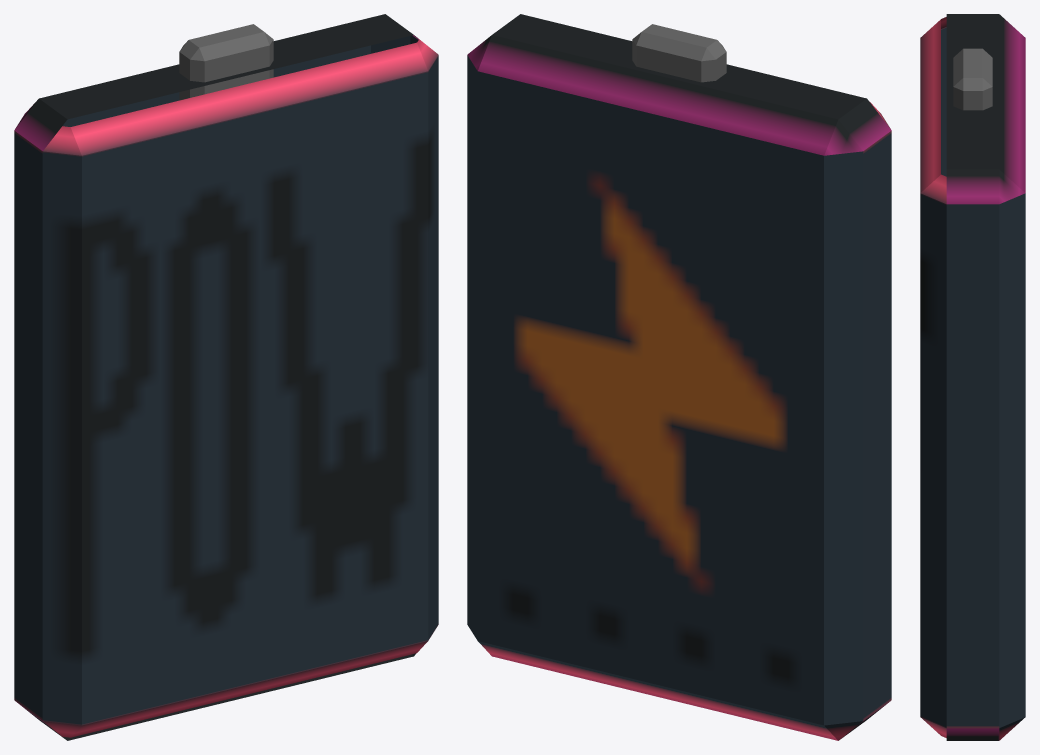
Rendered from batterExport.fbx.
3 renders of one model, left to right at view 1: azimuth 30°, elevation 25°; view 2: azimuth 150°, elevation 25°; view 3: azimuth 270°, elevation 25°, orthographic. The views are drawn at different scales.
Parts seen in each view (by area): view 1: pCube3; view 2: pCube3; view 3: pCube3.
Part boxes in pixels (bbox=[...]): pCube3: bbox=[14, 14, 438, 740]; pCube3: bbox=[467, 14, 891, 740]; pCube3: bbox=[920, 14, 1025, 740].
Bounding box in the file's own units: 0.14 × 0.2204 × 0.035.
2 materials, 1 textured.
